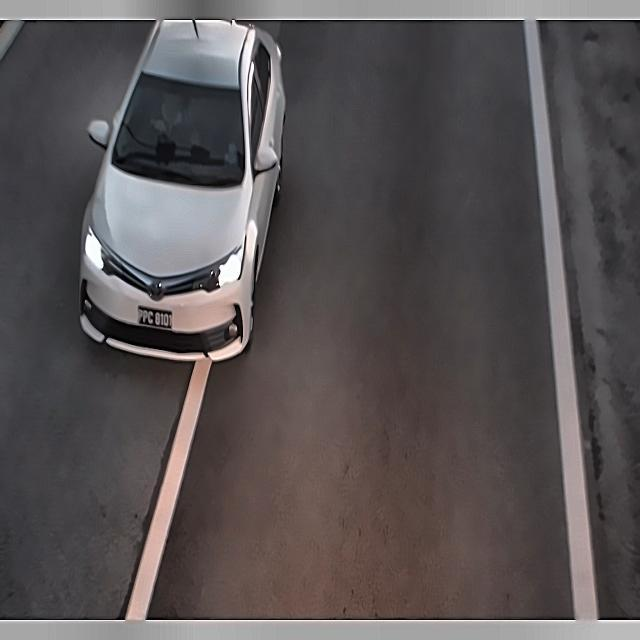car: (131, 302, 180, 335)
